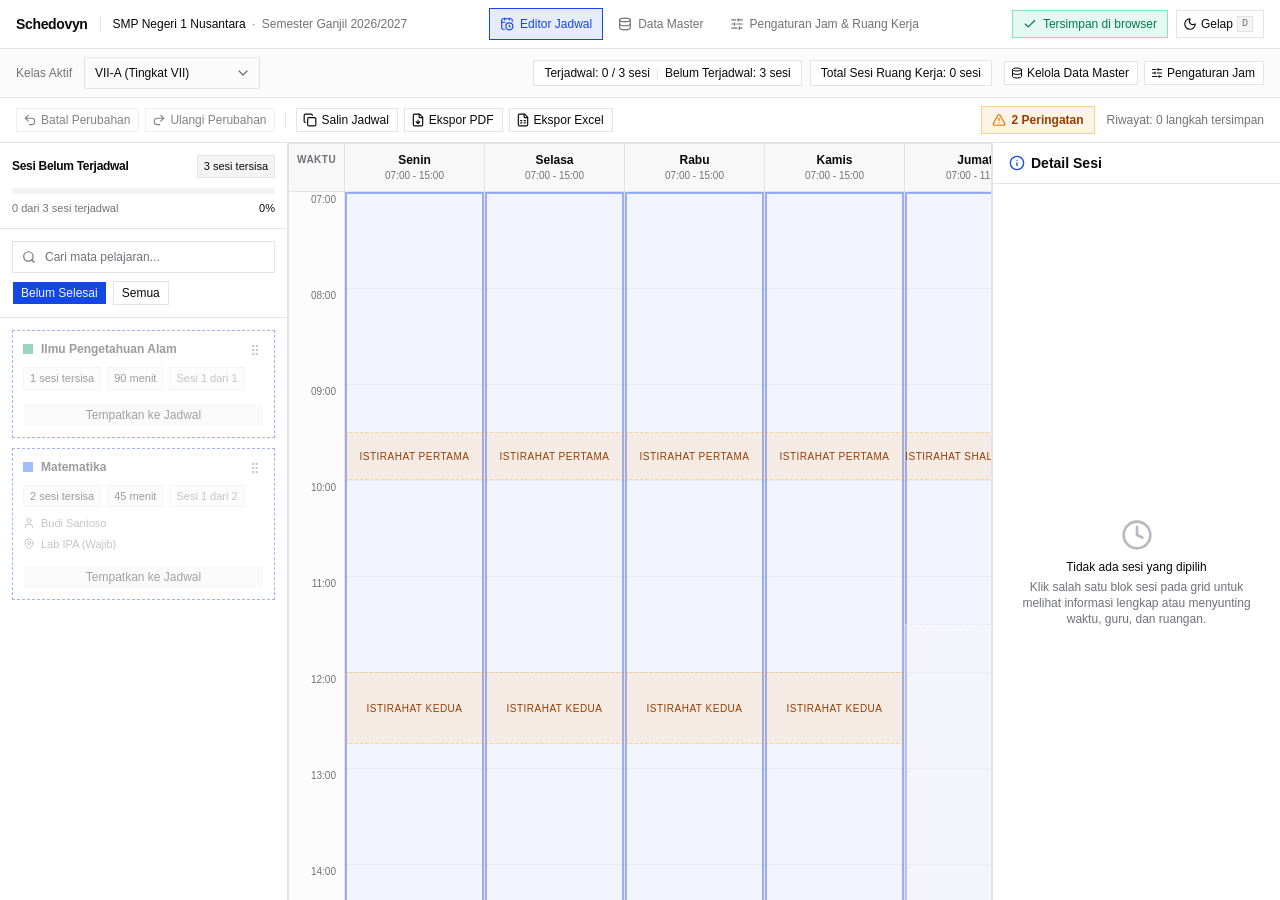
Test: FR-04: Antarmuka Editor Jadwal 3 Panel & Aksesibilitas Keyboard (timetable-editor-ui) › 3. tombol cepat keyboard 'Tempatkan ke Jadwal' membuka dialog penempatan cepat dan menempatkan sesi (AC-FR04-05)
// Klik tombol cepat tempatkan
Click the button "Tempatkan ke Jadwal" below "90": [144, 414] box top-left (23, 402), bottom-right (264, 426)
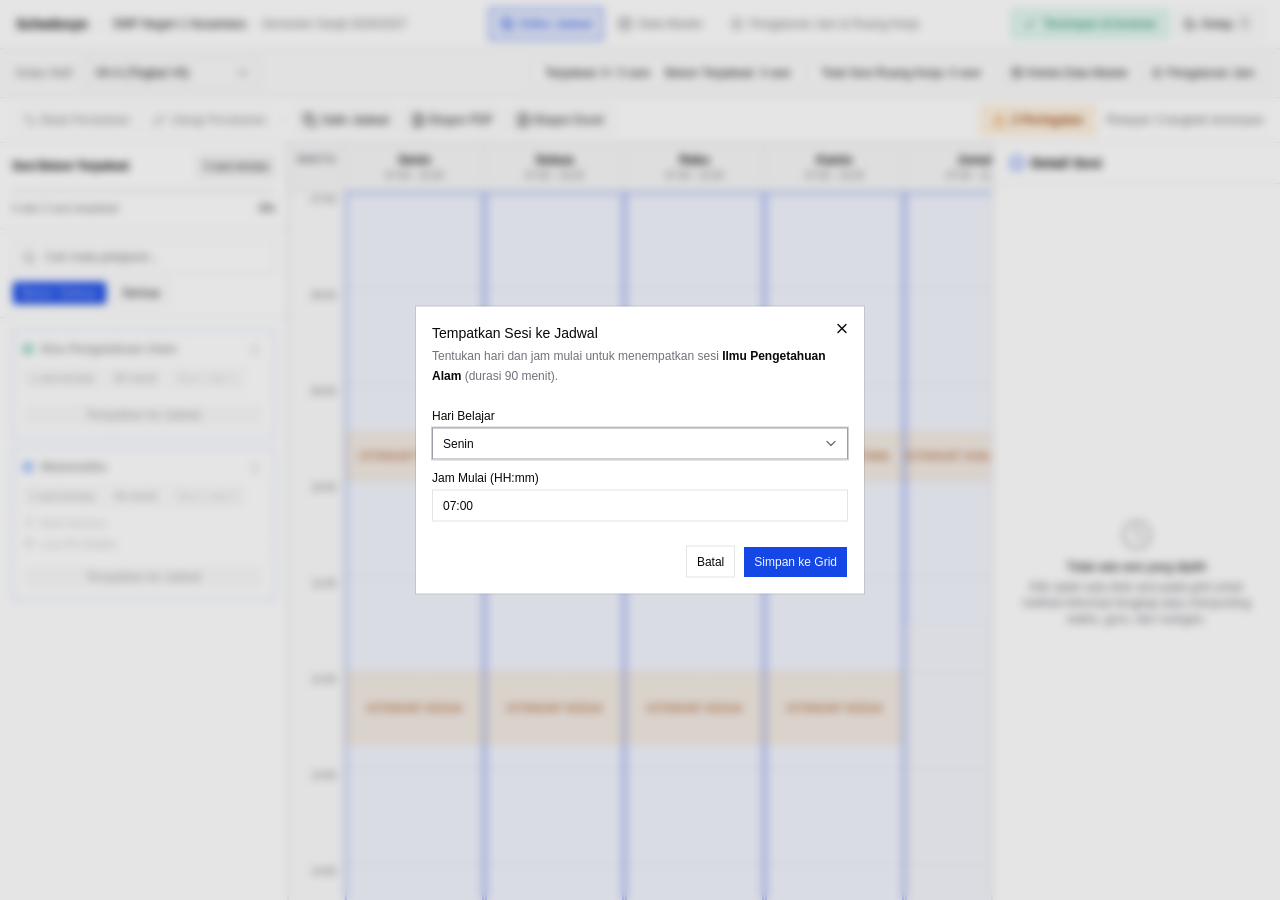
Expected: the dialog "Tempatkan Sesi ke Jadwal" is shown, top-left (416, 306), bottom-right (864, 594)
Click the button "Simpan ke Grid": [796, 562] box top-left (743, 546), bottom-right (848, 578)
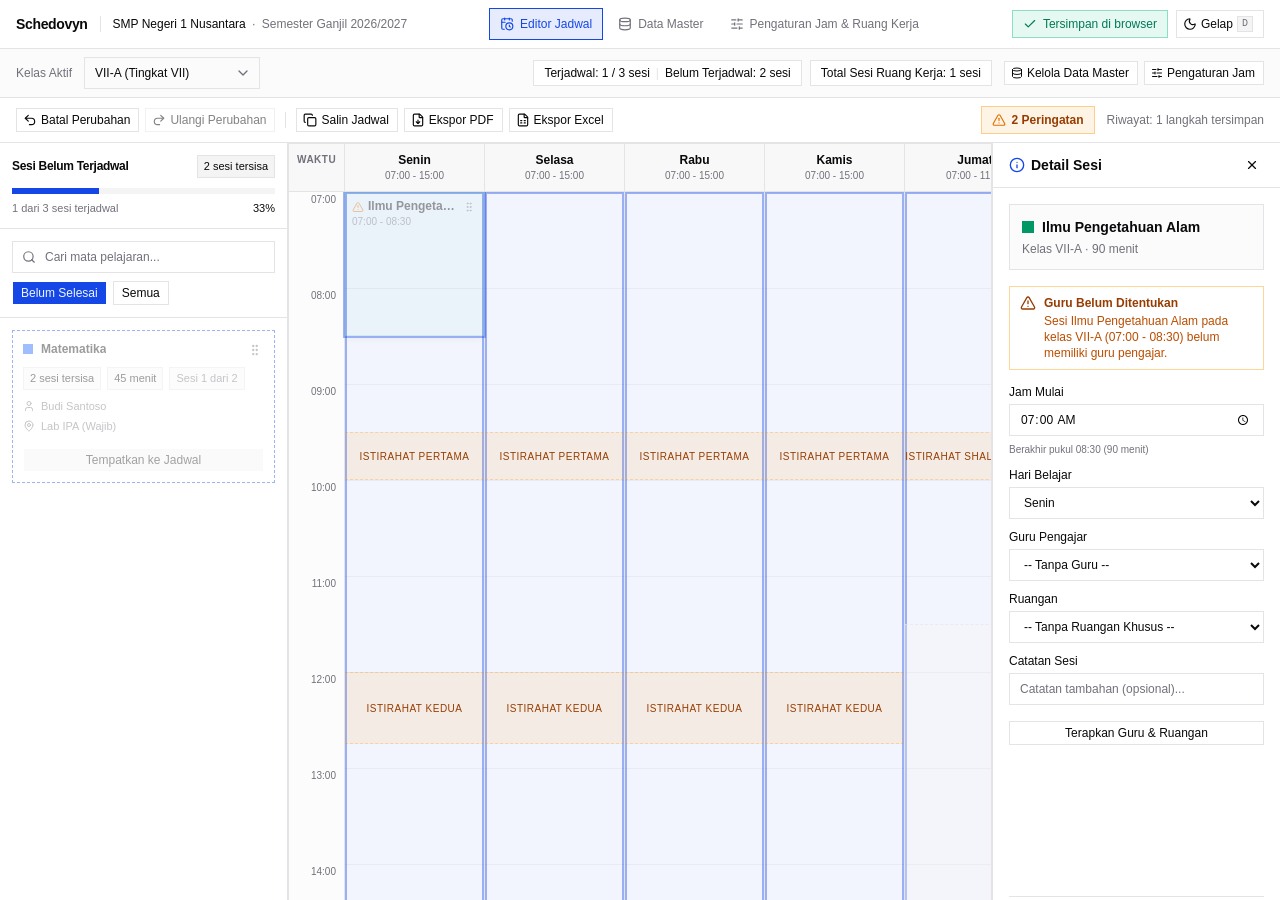
Expected: the number of elements named "Blok Sesi" is 1, top-left (345, 192), bottom-right (484, 336)
